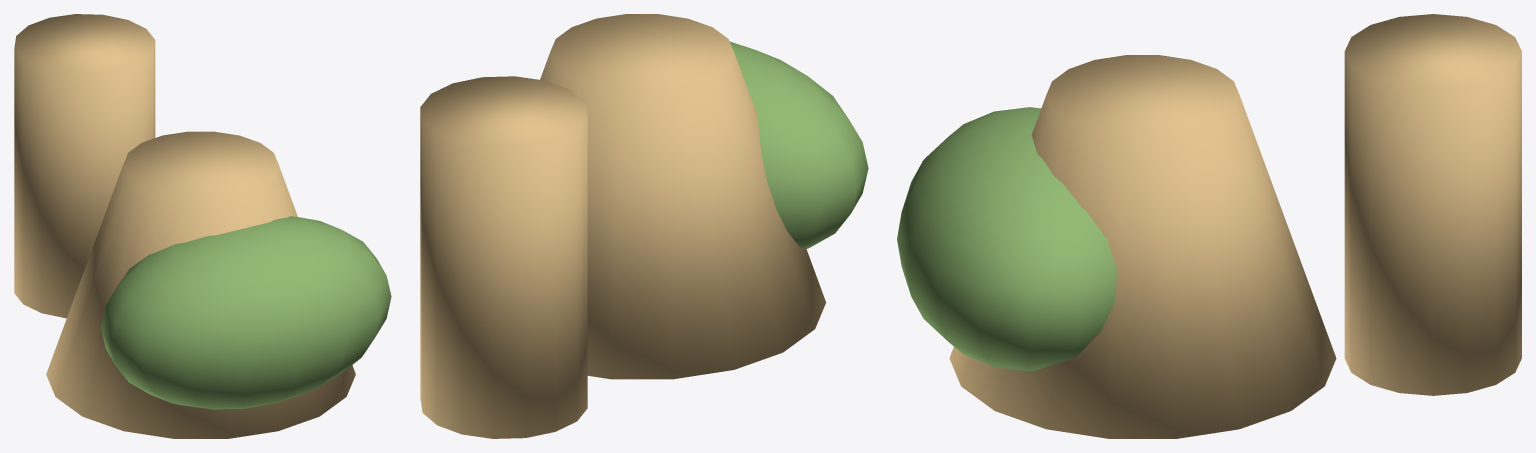
File: charm-matcha-whisk.glb
3 renders of one model, left to right at view 1: azimuth 30°, elevation 25°; view 2: azimuth 150°, elevation 25°; view 3: azimuth 270°, elevation 25°, orthographic. The views are drawn at different scales.
Parts seen in each view (by area): view 1: Sphere, Cone, Cylinder; view 2: Cone, Cylinder, Sphere; view 3: Cone, Cylinder, Sphere.
Part boxes in pixels (x1=…): Sphere: x1=101, y1=216, x2=391, y2=409; Cone: x1=46, y1=131, x2=355, y2=438; Cylinder: x1=14, y1=14, x2=155, y2=318; Cone: x1=540, y1=14, x2=825, y2=379; Cylinder: x1=420, y1=76, x2=587, y2=438; Sphere: x1=729, y1=41, x2=868, y2=248; Cone: x1=949, y1=55, x2=1336, y2=438; Cylinder: x1=1344, y1=14, x2=1521, y2=395; Sphere: x1=897, y1=107, x2=1116, y2=371.
Bounding box in the file's own units: 0.00484 × 0.0042 × 0.00775.
